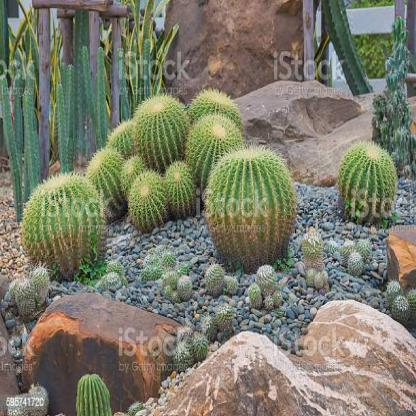Cactus: (206, 145, 297, 270), (21, 173, 105, 278), (336, 138, 397, 224), (188, 114, 244, 187), (134, 94, 186, 172), (128, 170, 168, 226), (86, 149, 124, 207), (165, 161, 198, 214), (27, 265, 50, 302), (14, 280, 37, 312), (257, 262, 276, 295), (203, 263, 223, 293), (190, 330, 208, 361), (105, 270, 124, 296), (173, 340, 191, 366), (215, 303, 232, 330), (394, 295, 410, 323), (248, 280, 263, 309), (386, 280, 402, 307), (347, 251, 363, 275), (178, 276, 194, 300), (357, 238, 372, 262)
